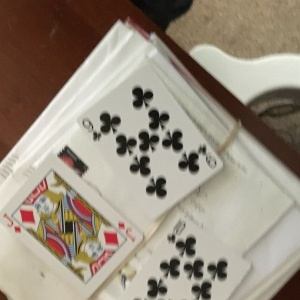card: (73, 67, 226, 214), (1, 154, 145, 291)
